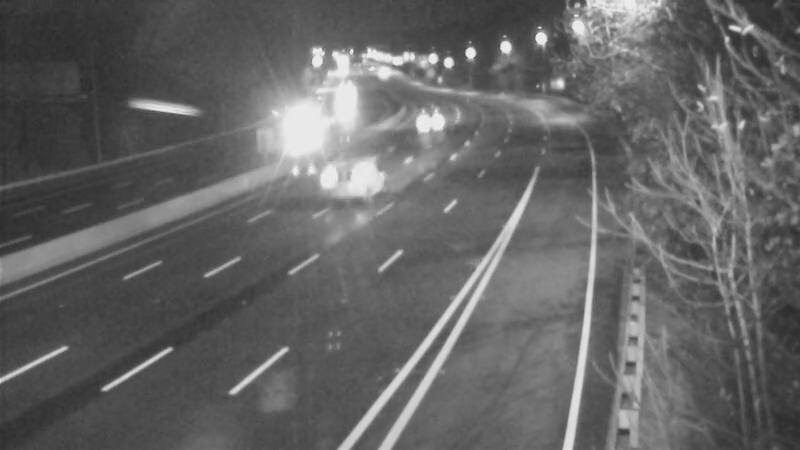vehicle: (319, 138, 399, 218), (401, 95, 451, 145), (273, 114, 323, 164)
